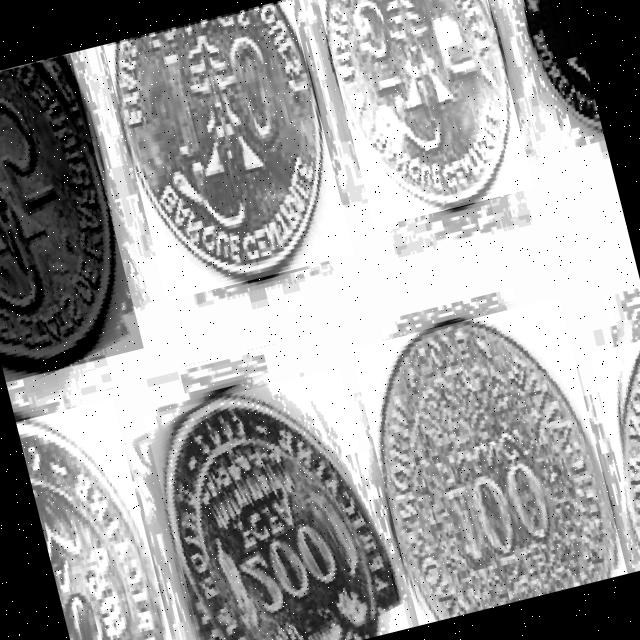derem: (327, 0, 509, 207)
fukk: (622, 358, 640, 547)
juroom derem: (0, 61, 113, 368)
niaari derem: (118, 4, 320, 281)
niaari fukk: (383, 322, 616, 620)
nient fukk: (167, 398, 399, 640)
teemeer: (16, 421, 167, 640)
